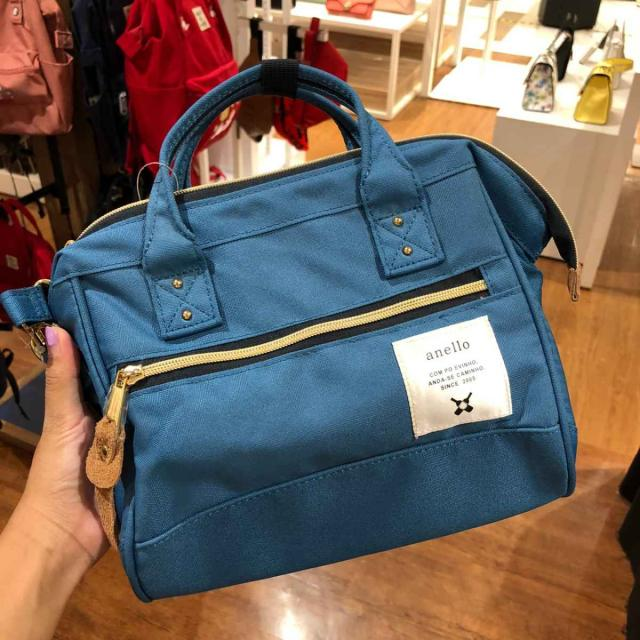Handbag: (41, 58, 586, 606)
